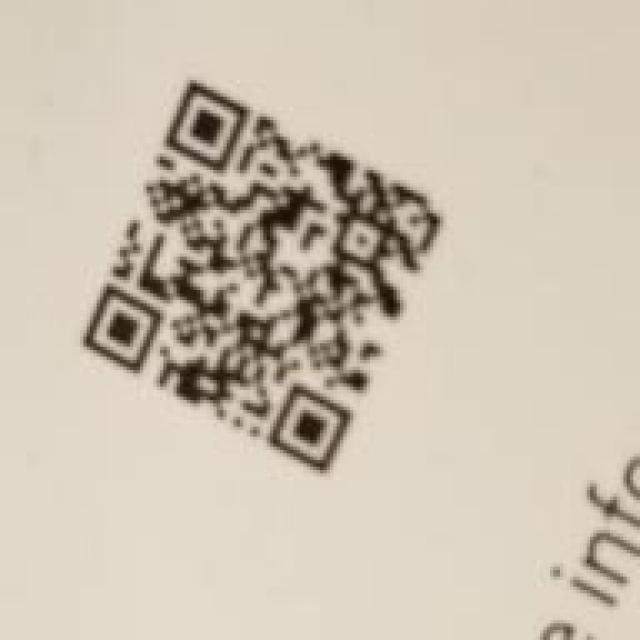QR_CODE: (40, 62, 473, 510)
